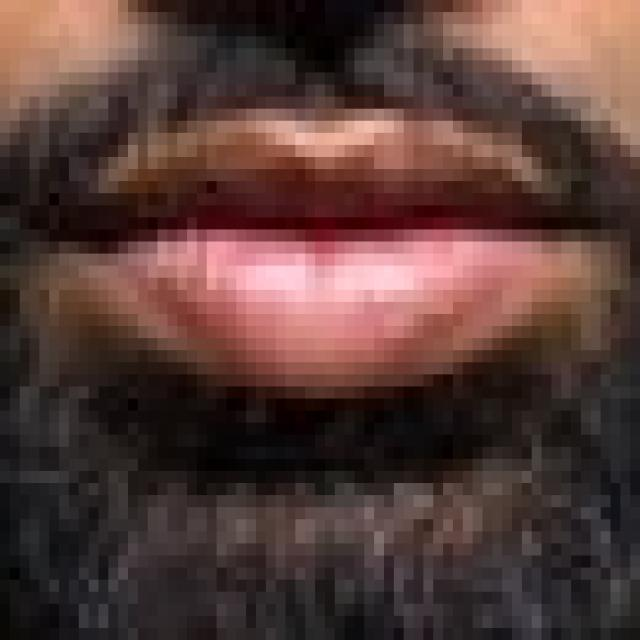closed-mouth: (9, 65, 630, 399)
